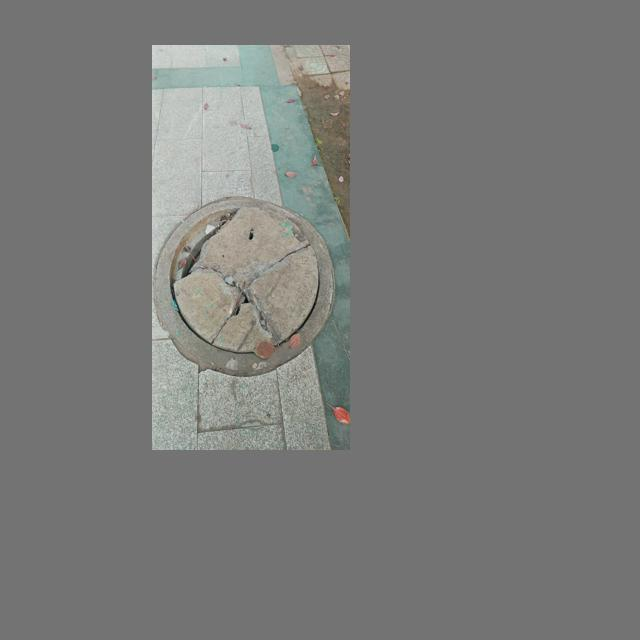broke: (154, 192, 337, 379)
